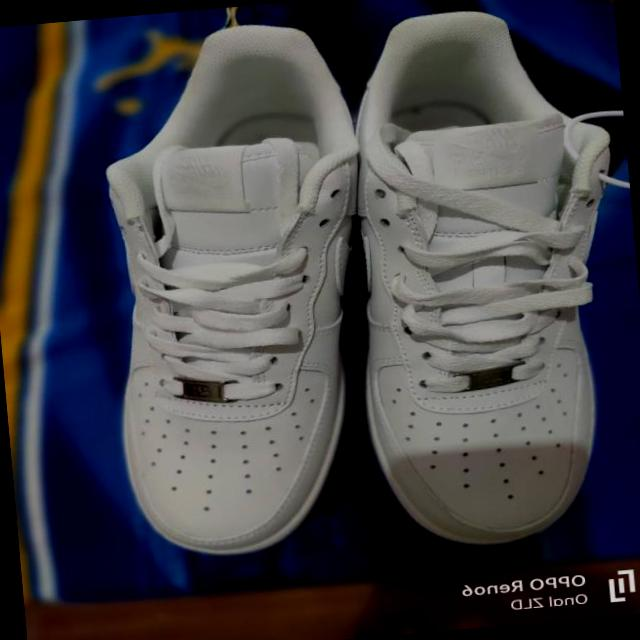nike_fake_airforce: (80, 16, 397, 569), (327, 0, 640, 551)
